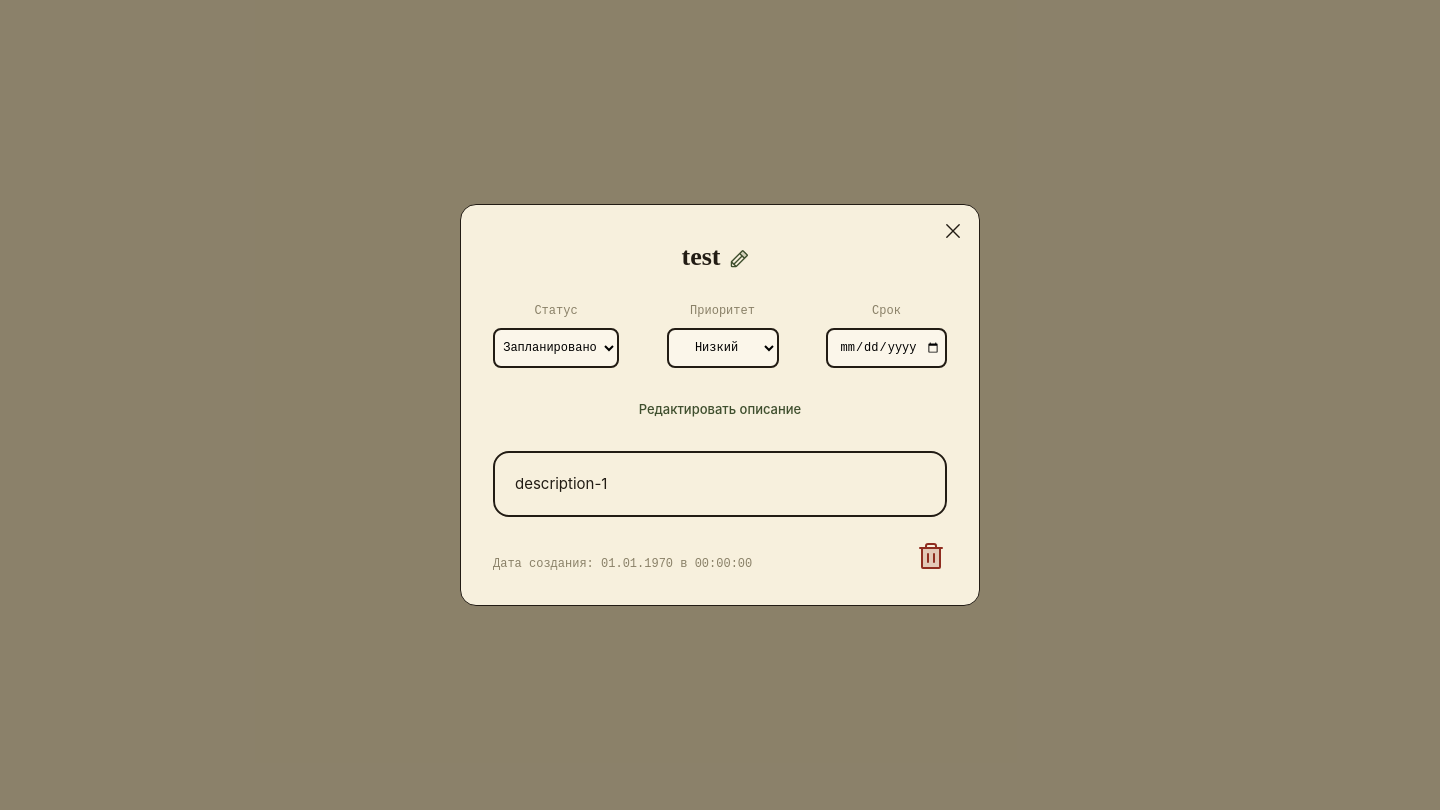
Test: TaskDetailsModal › updates title character count when title changes
This screenshot has width=1440, height=810.
Click the button named "Редактировать название": x=740, y=259 x1=720 y1=240 x2=758 y2=278
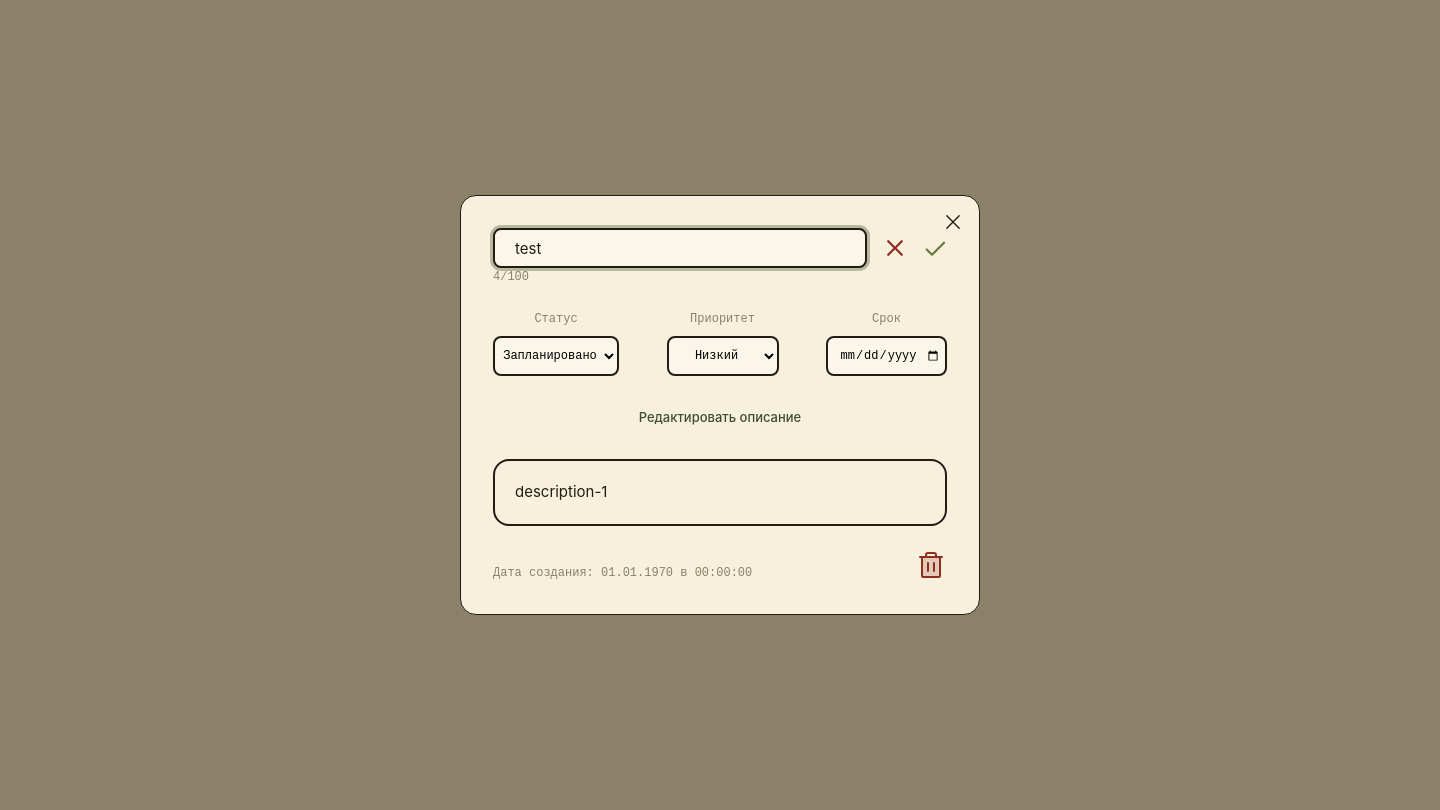
Check: the text "4/100" is shown, box x1=493 y1=270 x2=529 y2=284
In the field named "Название задачи": x=680, y=248 x1=493 y1=228 x2=867 y2=268, type "-title"
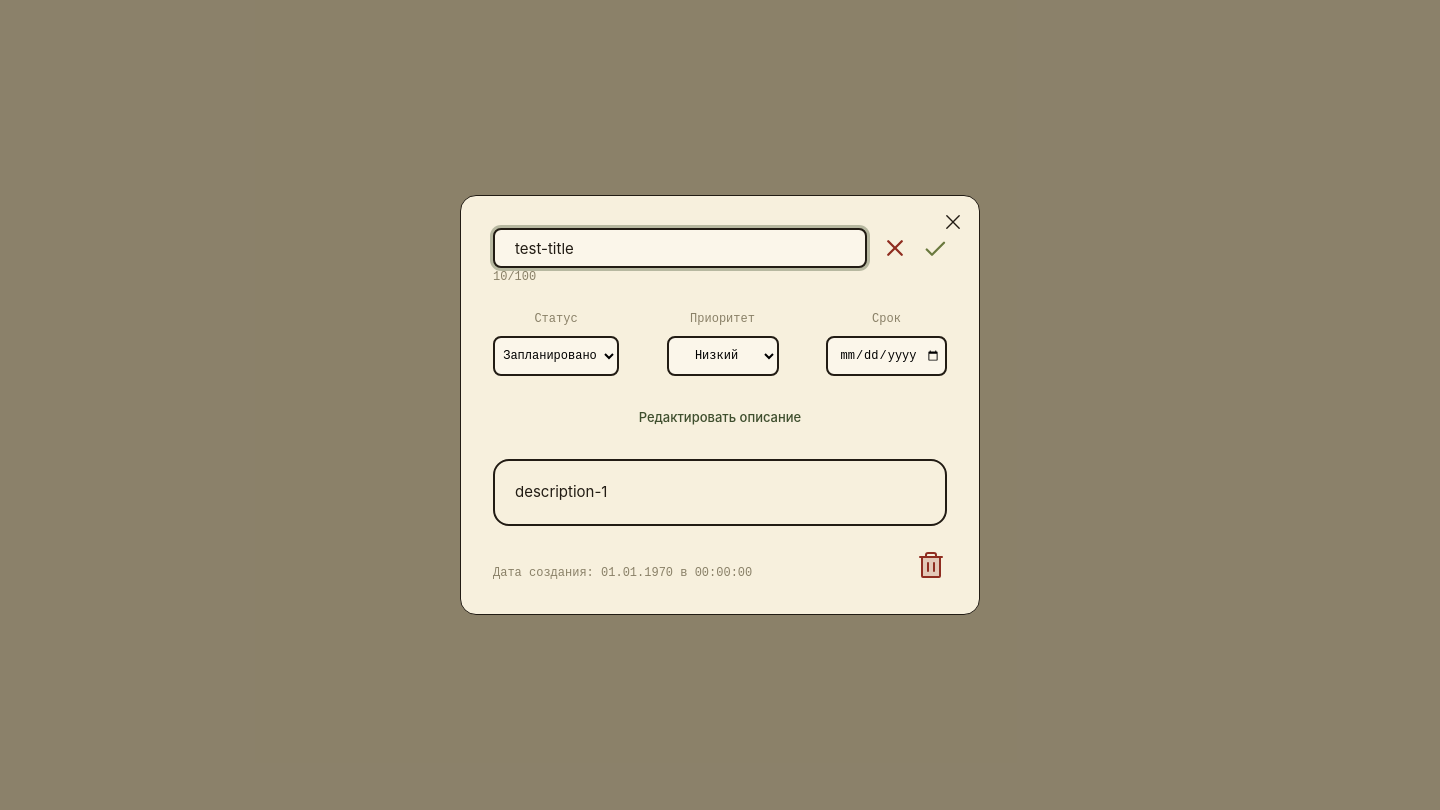
Check: the text "10/100" is shown, box x1=493 y1=270 x2=536 y2=284
